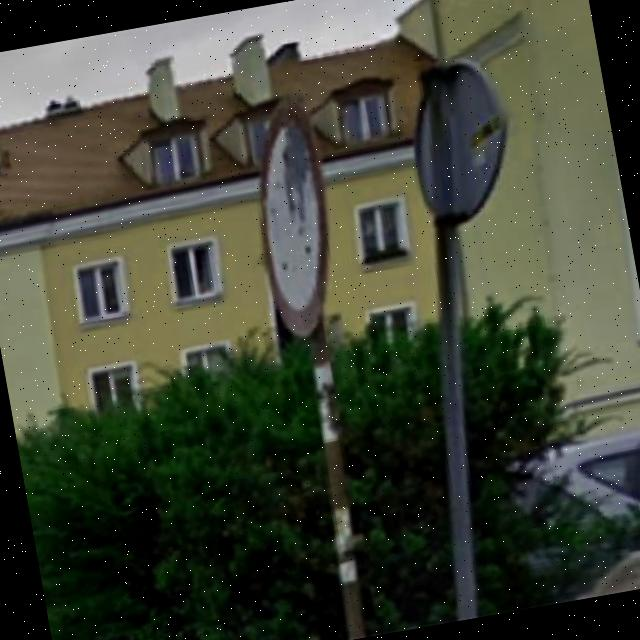Zakaz ruchu w obu kierunkach: (234, 90, 354, 344)
